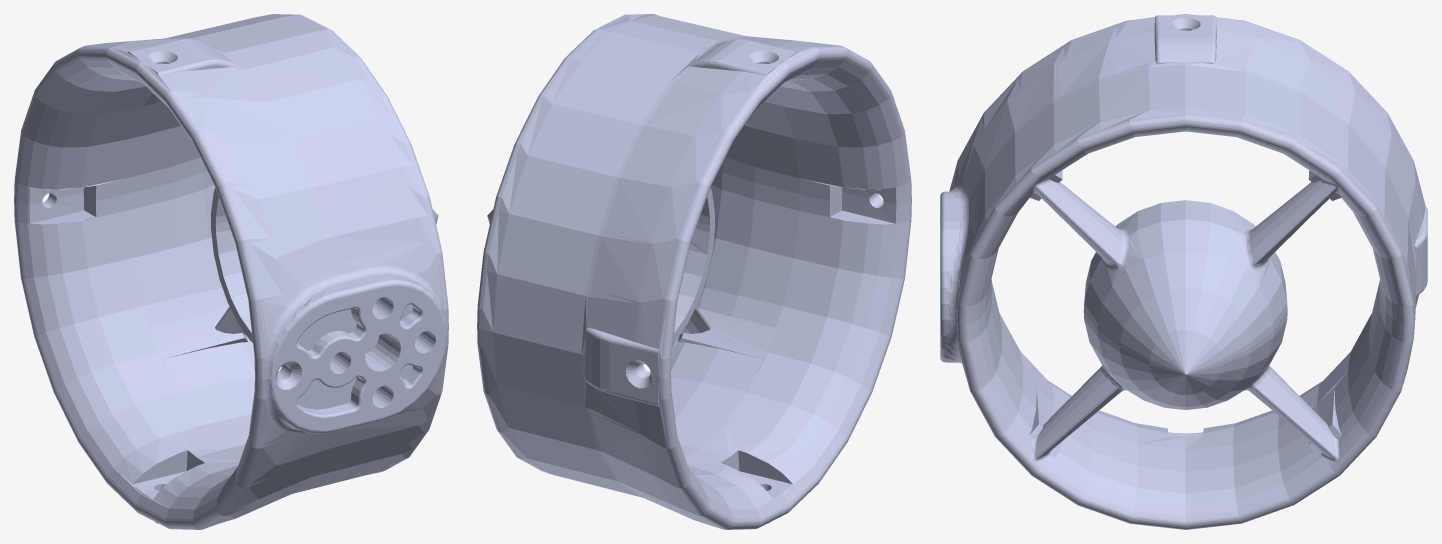
File: T200_06_T200STEP_T200STEPSTEP_T200_NOZZLESTEPSTEP_T200STEP1_02_T200STEP1.obj
3 views of the same model, side by side, from view 1: azimuth 30°, elevation 25°; view 2: azimuth 150°, elevation 25°; view 3: azimuth 270°, elevation 25° (orthographic). The views are drawn at different scales.
Size of the model in its own units: 0.0679 by 0.0966 by 0.0973.
